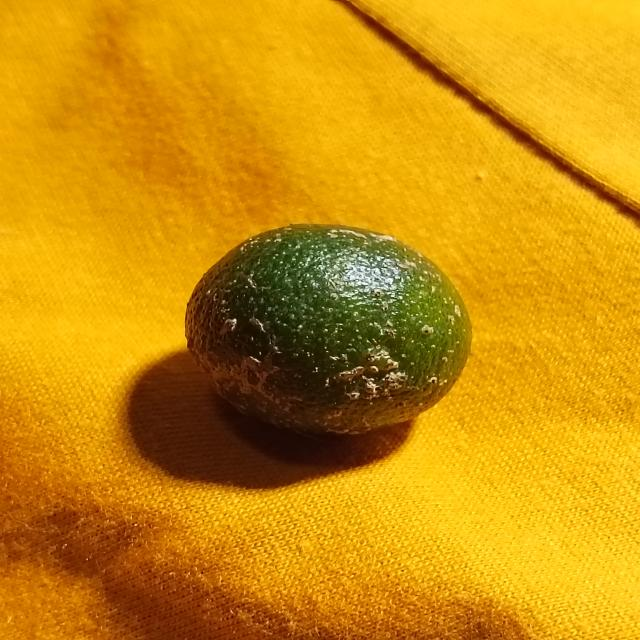scab: (181, 221, 483, 444)
